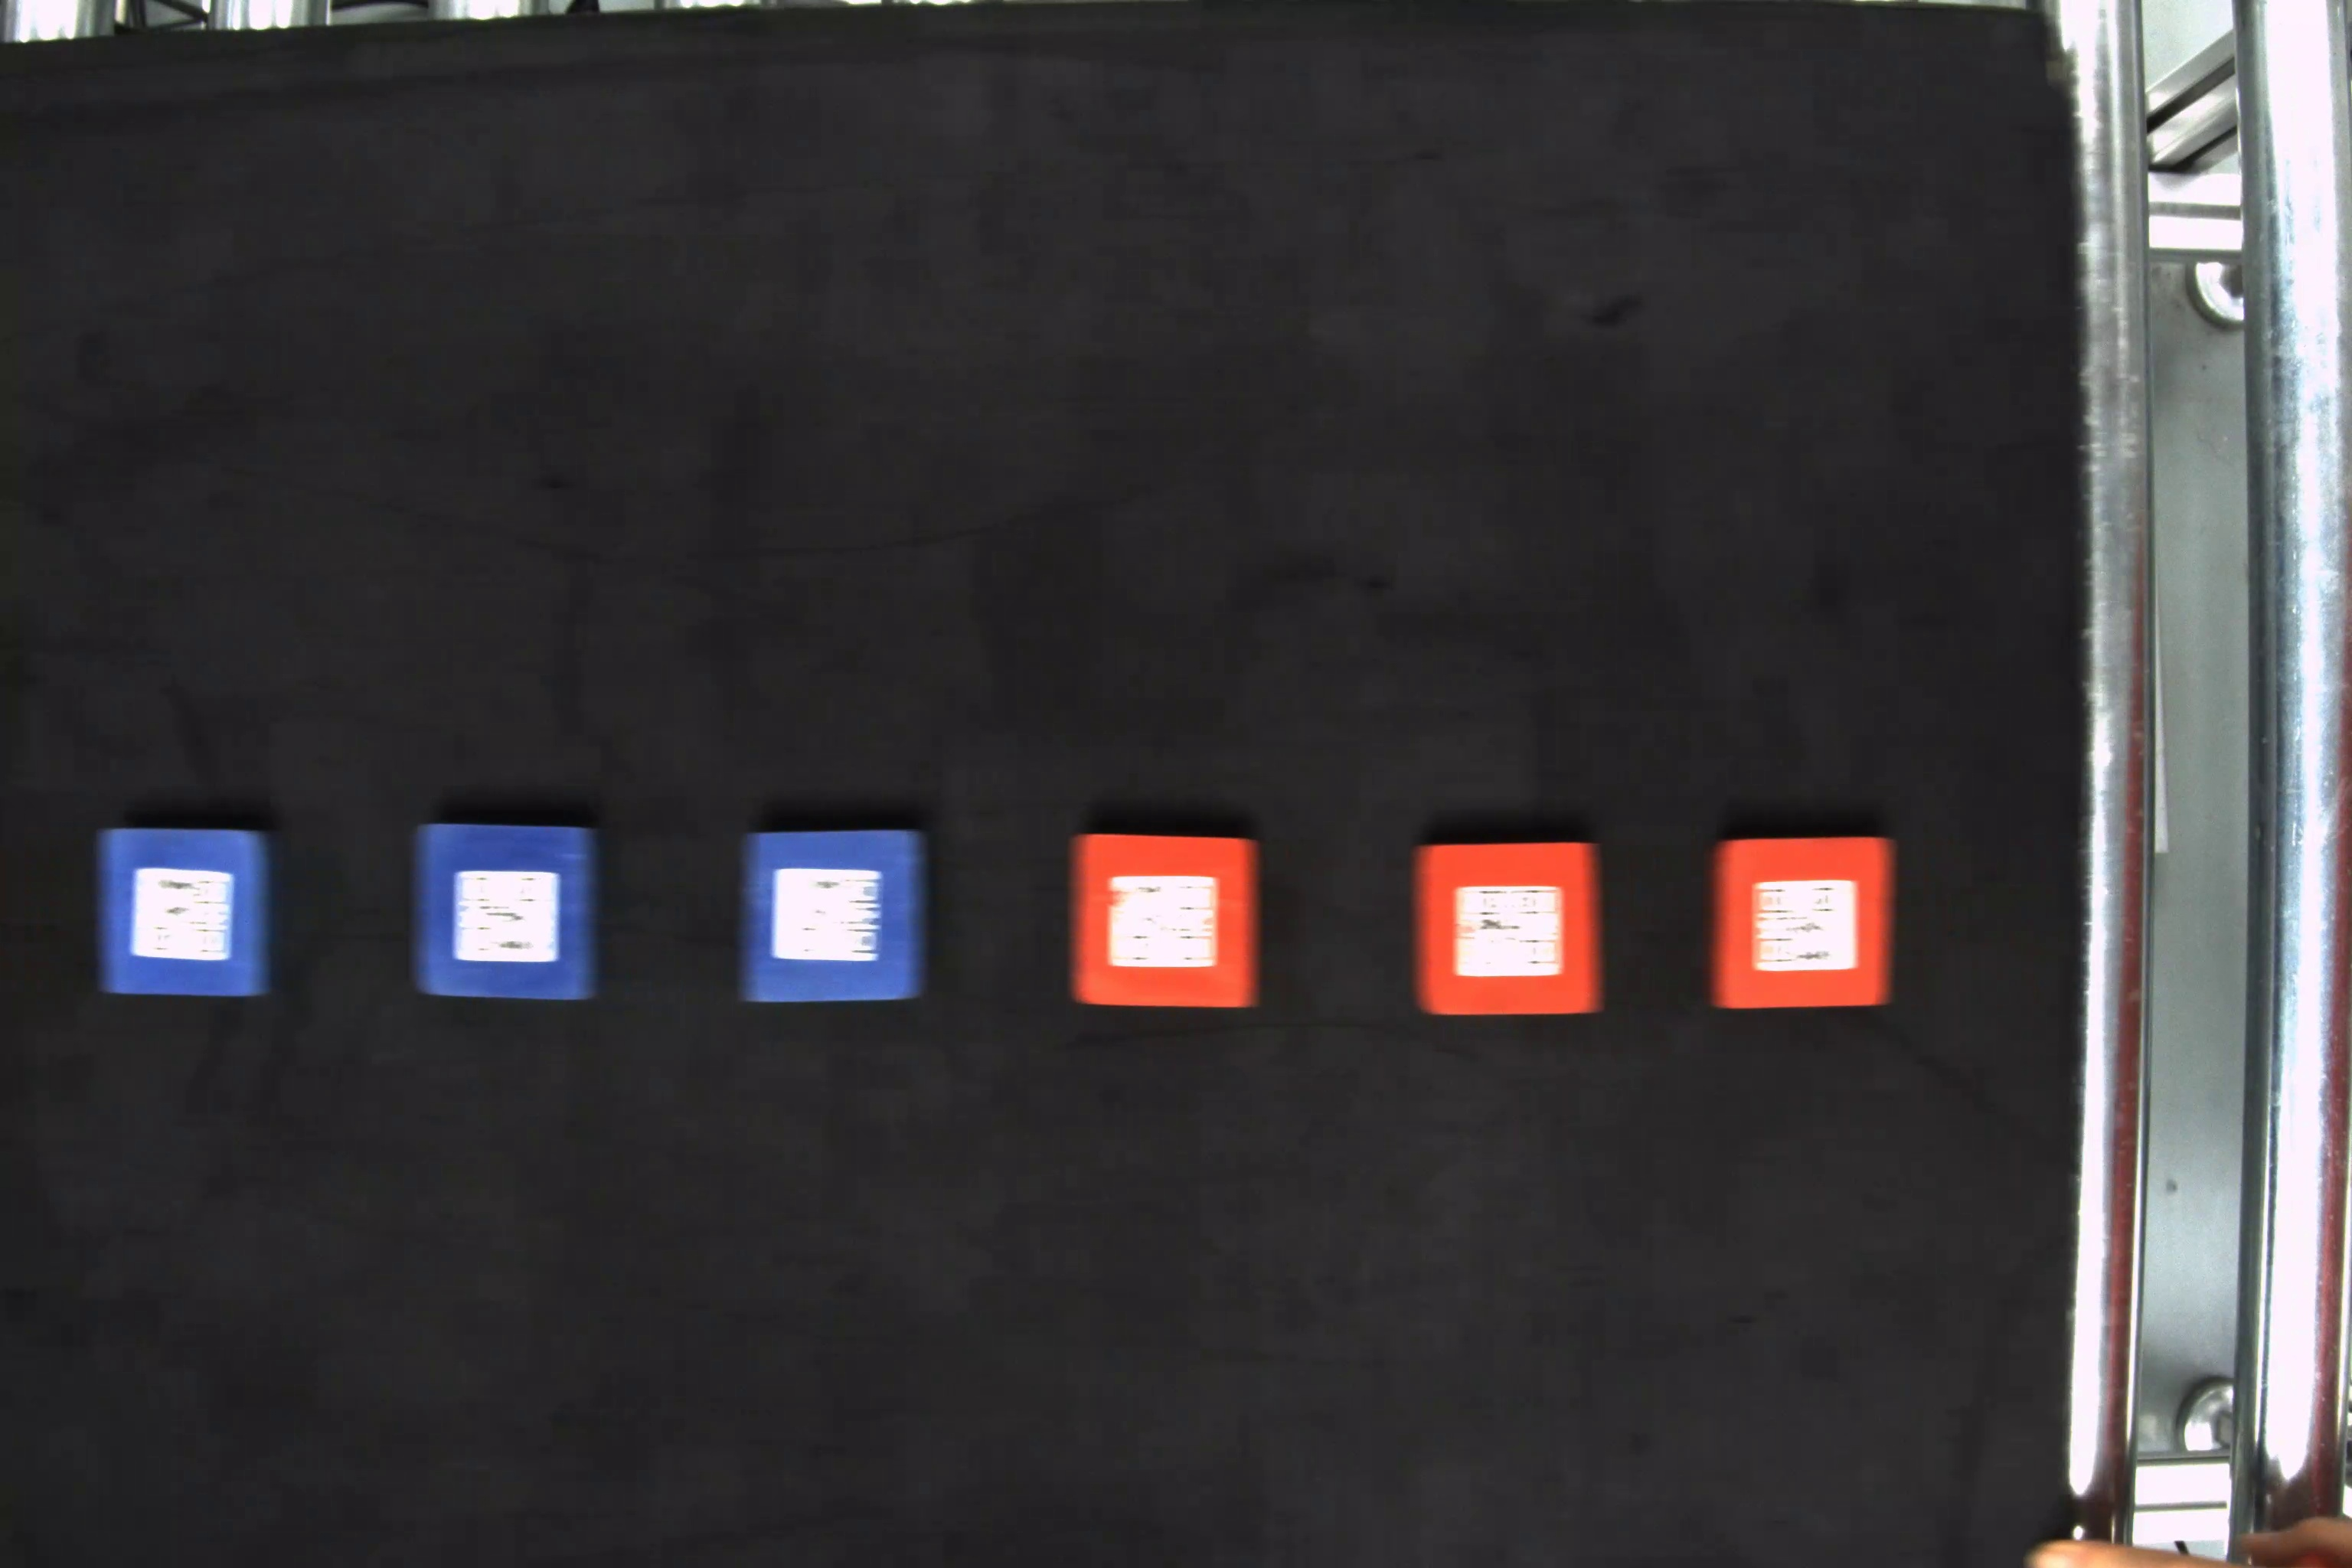wood: (409, 814, 612, 1015), (1405, 833, 1612, 1022), (1703, 836, 1909, 1011), (1083, 819, 1263, 1018), (94, 826, 283, 1006), (744, 829, 934, 1004)
